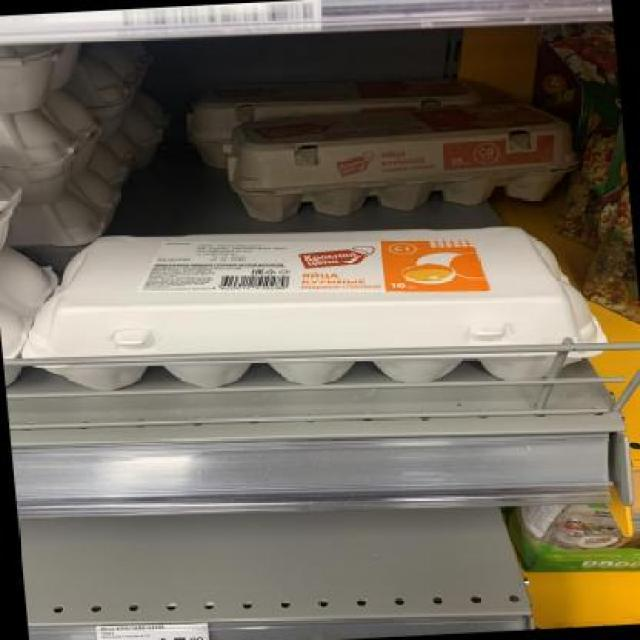Egg: (5, 209, 616, 407), (211, 99, 583, 223)
